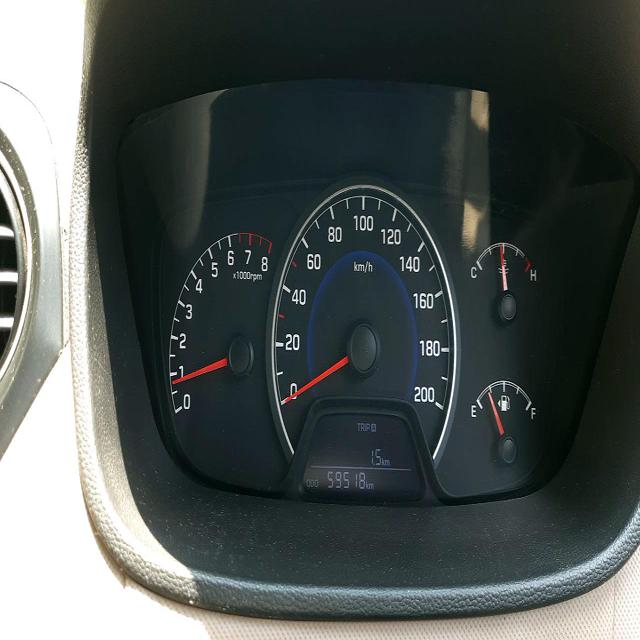odometer: (325, 467, 367, 492)
